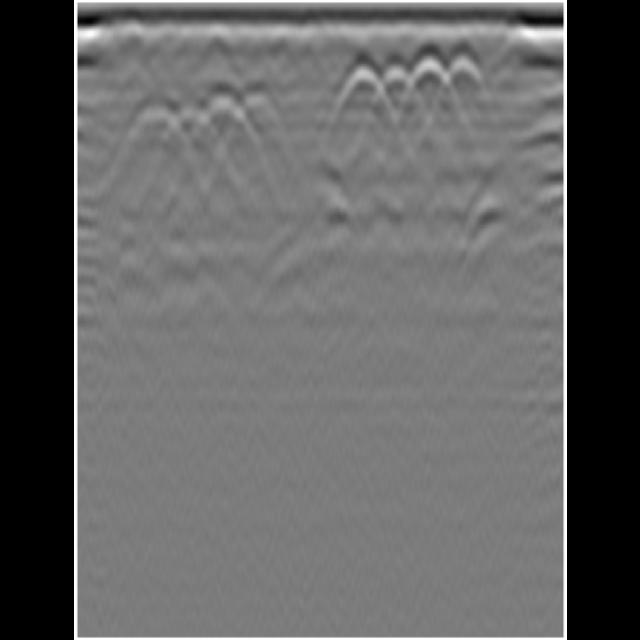hyperbola: (120, 97, 178, 155), (230, 85, 284, 147), (336, 59, 382, 124), (371, 61, 415, 125), (196, 88, 246, 142), (438, 48, 490, 98), (403, 48, 447, 104), (164, 108, 208, 160)
